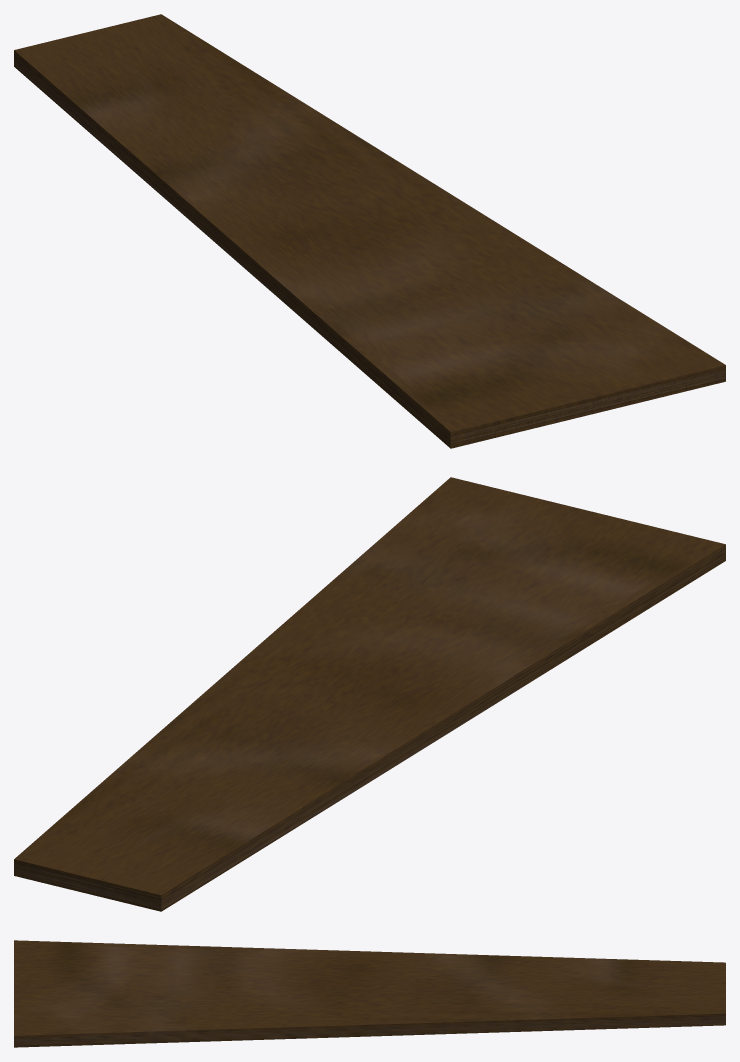
The model's file is table.glb.
3 views of the same model, one above another, from view 1: azimuth 30°, elevation 25°; view 2: azimuth 150°, elevation 25°; view 3: azimuth 270°, elevation 25° (orthographic). The views are drawn at different scales.
Visible parts, largest first — view 1: table; view 2: table; view 3: table.
Boxes of the visible parts, left/top/right/bottom form: table: left=14, top=14, right=725, bottom=448; table: left=14, top=477, right=725, bottom=911; table: left=14, top=940, right=725, bottom=1047.
Size of the model in its own units: 1.92 by 0.1105 by 6.05.
Materials: 1 (1 with a texture image).
